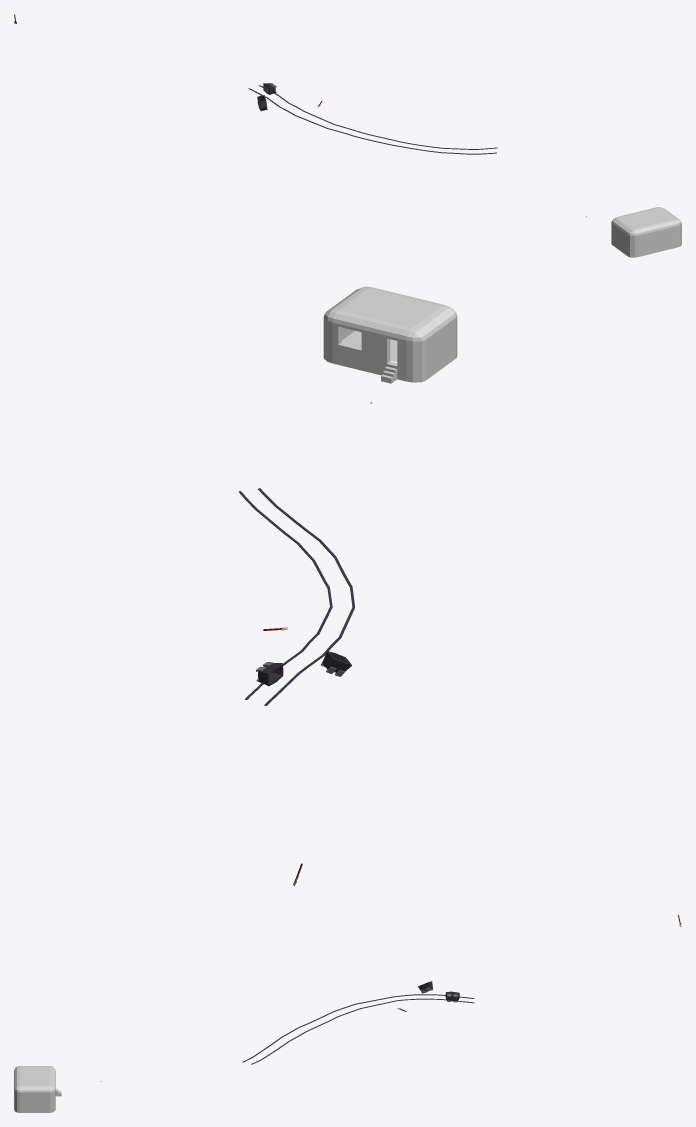
Rendered from Assets.fbx.
3 renders of one model, top to bottom at view 1: azimuth 30°, elevation 25°; view 2: azimuth 150°, elevation 25°; view 3: azimuth 270°, elevation 25°, orthographic. The views are drawn at different scales.
Visible parts, largest first — view 1: Infirmary Facade, Railway, Railway Track; view 2: Infirmary Facade, Railway; view 3: Infirmary Facade, Railway, Railway Track.
Boxes of the visible parts, bbox=[...] form: Infirmary Facade: bbox=[611, 207, 681, 257]; Railway: bbox=[248, 88, 496, 154]; Railway Track: bbox=[259, 85, 497, 149]; Infirmary Facade: bbox=[323, 286, 457, 382]; Railway: bbox=[258, 488, 354, 705]; Infirmary Facade: bbox=[14, 1066, 55, 1112]; Railway: bbox=[242, 994, 474, 1062]; Railway Track: bbox=[251, 998, 474, 1064].
Bounding box in the file's own units: 5250 × 829 × 10016.
